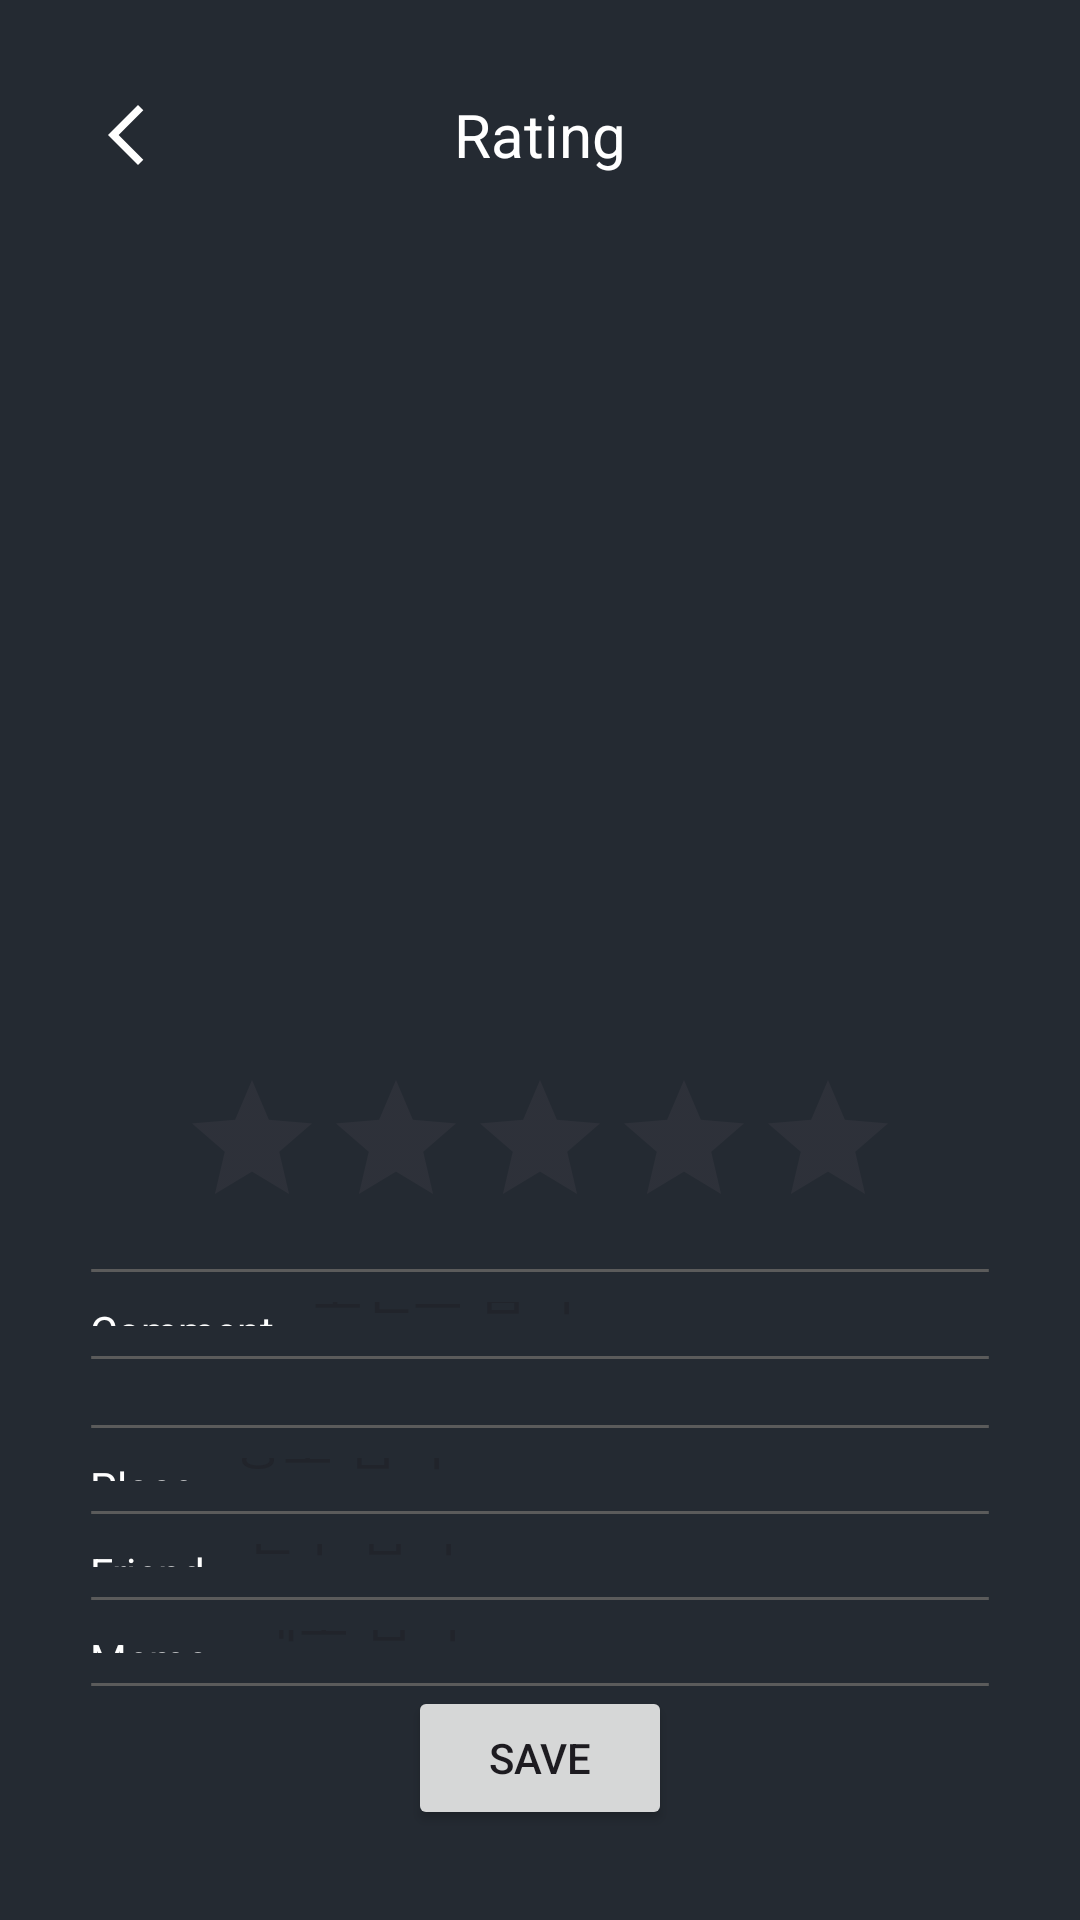

Named icons in this screenshot (1080w x 1920h) and their centers, (x=x, y=y):
arrow back: (x=125, y=135)
